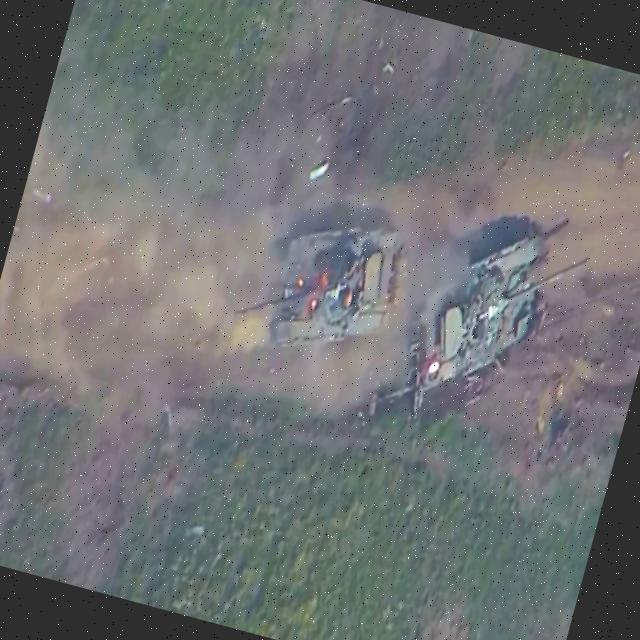MBT: (385, 185, 603, 435), (223, 185, 422, 382)
